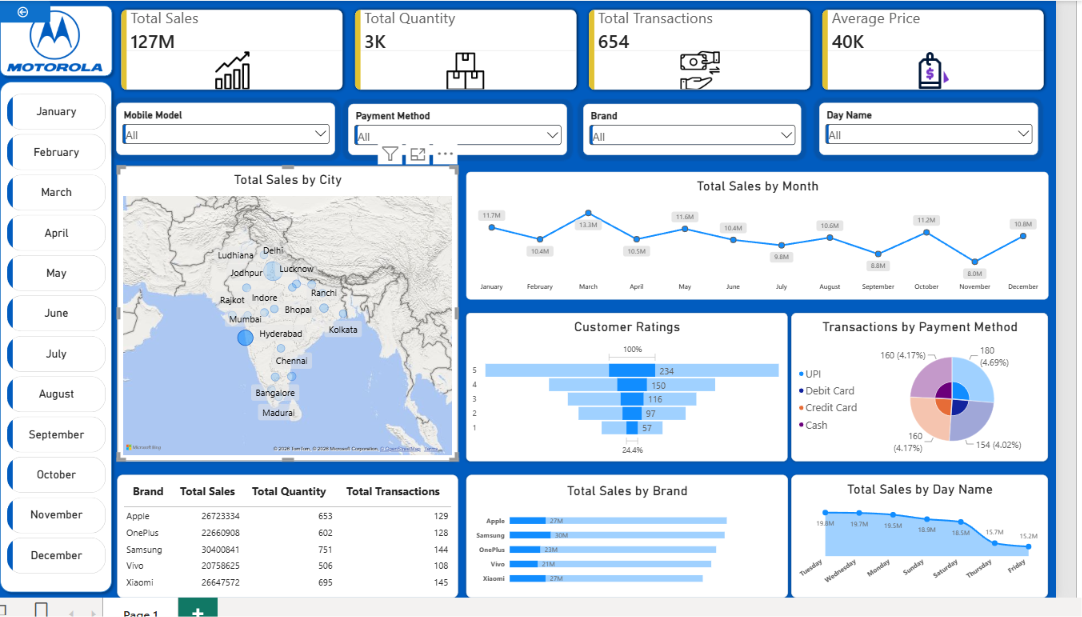

What the dashboard file says about the page in this screenshot:
{"tool":"powerbi","page":{"name":"Page 1","canvas":[1920,1080],"ordinal":0},"visuals":[{"type":"shape","box":[0,0,220.8,145.3],"z":0},{"type":"image","box":[17,9.4,183,128.3],"z":1000},{"type":"shape","box":[0,138.2,220,941.8],"z":2000},{"type":"advancedSlicerVisual","fields":{"Values":["Sales_Data.Date.Variation.Date Hierarchy.Month"]},"box":[21.8,169.1,178.2,878.2],"z":3000},{"type":"cardVisual","fields":{"Data":["Sales_Data.Total Sales","Sales_Data.Total Quantity","Sales_Data.Total Transactions","Sales_Data.Average Price"]},"box":[220.8,9,1684.8,159.3],"z":4000},{"type":"slicer","fields":{"Values":["Sales_Data.Mobile Model"]},"box":[219,185.5,396.4,94.5],"z":5000},{"type":"slicer","fields":{"Values":["Sales_Data.Day Name"]},"box":[1490.9,185.5,396.4,94.5],"z":6000},{"type":"slicer","fields":{"Values":["Sales_Data.Payment Method"]},"box":[638.2,187.3,396.4,92.7],"z":7000},{"type":"slicer","fields":{"Values":["Sales_Data.Brand"]},"box":[1063.6,187.3,394.5,92.7],"z":8000},{"type":"map","title":"Total Sales by City","fields":{"Category":["Sales_Data.City"],"Size":["Sales_Data.Total Sales"]},"box":[220.4,298.1,616.7,535.2],"z":9000},{"type":"lineChart","fields":{"Category":["Sales_Data.Date.Variation.Date Hierarchy.Month"],"Y":["Sales_Data.Total Sales"]},"box":[851.9,309.3,1053.7,231.5],"z":10000},{"type":"funnel","title":"Customer Ratings","fields":{"Category":["Sales_Data.Customer Ratings"],"Y":["CountNonNull(Sales_Data.Customer Ratings)"]},"box":[851.9,564.8,581.5,268.5],"z":11000},{"type":"pieChart","title":"Transactions by Payment Method","fields":{"Category":["Sales_Data.Payment Method"],"Y":["Sales_Data.Total Transactions"]},"box":[1440.7,564.8,464.8,268.5],"z":11001},{"type":"tableEx","fields":{"Values":["Sales_Data.Brand","Sales_Data.Total Sales","Sales_Data.Total Quantity","Sales_Data.Total Transactions"]},"box":[220.4,857.4,616.7,222.2],"z":11002},{"type":"clusteredBarChart","fields":{"Category":["Sales_Data.Brand"],"Y":["Sales_Data.Total Sales"]},"box":[853,858,582,222],"z":11003},{"type":"areaChart","fields":{"Category":["Sales_Data.Day Name"],"Y":["Sales_Data.Total Sales"]},"box":[1441,858,465,222],"z":11004},{"type":"actionButton","box":[0,0,100,40],"z":11005}]}

Visuals, with their boxes in screenshot pixels (x1, y1, x2, y2):
shape: {"x1": 0, "y1": 0, "x2": 114, "y2": 78}
image: {"x1": 1, "y1": 2, "x2": 103, "y2": 74}
shape: {"x1": 0, "y1": 74, "x2": 114, "y2": 597}
advancedSlicerVisual - Sales_Data.Date.Variation.Date Hierarchy.Month: {"x1": 4, "y1": 91, "x2": 103, "y2": 579}
cardVisual - Sales_Data.Total Sales x Sales_Data.Total Quantity: {"x1": 114, "y1": 2, "x2": 1051, "y2": 91}
slicer - Sales_Data.Mobile Model: {"x1": 113, "y1": 100, "x2": 334, "y2": 153}
slicer - Sales_Data.Day Name: {"x1": 820, "y1": 100, "x2": 1040, "y2": 153}
slicer - Sales_Data.Payment Method: {"x1": 346, "y1": 101, "x2": 567, "y2": 153}
slicer - Sales_Data.Brand: {"x1": 583, "y1": 101, "x2": 802, "y2": 153}
"Total Sales by City" map: {"x1": 114, "y1": 163, "x2": 457, "y2": 460}
lineChart - Sales_Data.Date.Variation.Date Hierarchy.Month x Sales_Data.Total Sales: {"x1": 465, "y1": 169, "x2": 1051, "y2": 298}
"Customer Ratings" funnel: {"x1": 465, "y1": 311, "x2": 788, "y2": 460}
"Transactions by Payment Method" pieChart: {"x1": 792, "y1": 311, "x2": 1051, "y2": 460}
tableEx - Sales_Data.Brand x Sales_Data.Total Sales: {"x1": 114, "y1": 474, "x2": 457, "y2": 597}
clusteredBarChart - Sales_Data.Brand x Sales_Data.Total Sales: {"x1": 466, "y1": 474, "x2": 789, "y2": 597}
areaChart - Sales_Data.Day Name x Sales_Data.Total Sales: {"x1": 792, "y1": 474, "x2": 1051, "y2": 597}
actionButton: {"x1": 0, "y1": 0, "x2": 47, "y2": 19}
